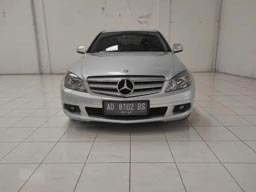plat: (103, 100, 149, 109)
